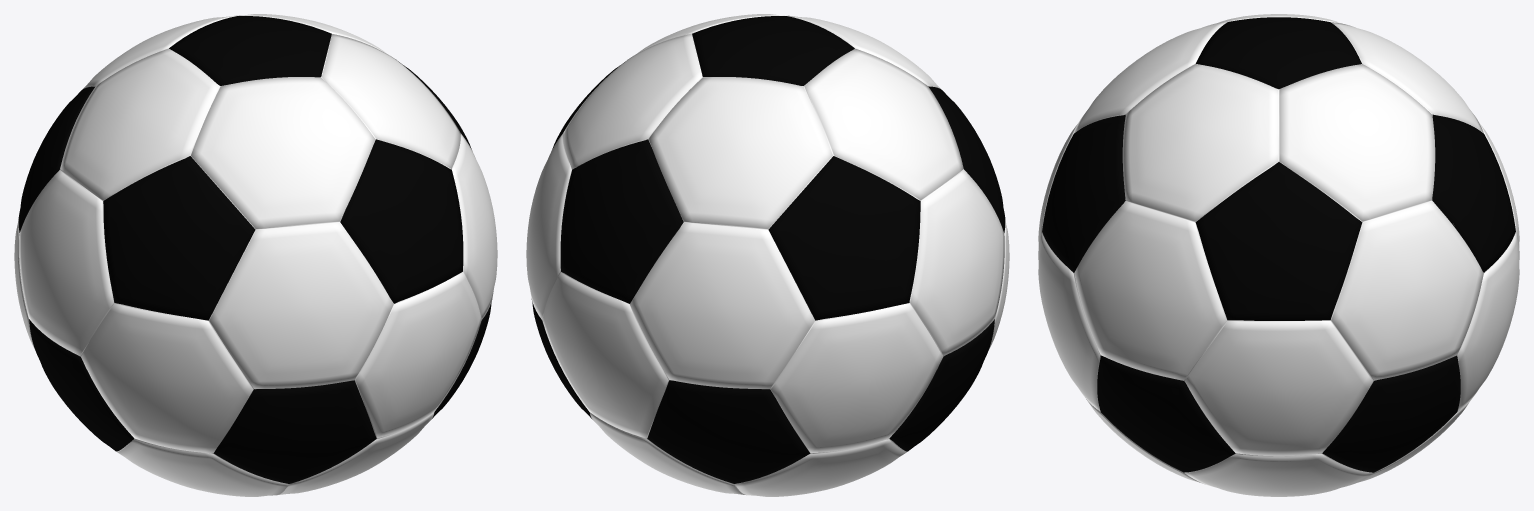
Rendered from Soccer Ball.obj.
3 views of the same model, side by side, from view 1: azimuth 30°, elevation 25°; view 2: azimuth 150°, elevation 25°; view 3: azimuth 270°, elevation 25° (orthographic).
Parts seen in each view (by area): view 1: Soccer_Ball; view 2: Soccer_Ball; view 3: Soccer_Ball.
Boxes of the visible parts, x1,y1,x2,y2 form: Soccer_Ball: (14,14,497,496); Soccer_Ball: (526,14,1009,496); Soccer_Ball: (1038,14,1519,496).
Size of the model in its own units: 0.2386 by 0.2395 by 0.2376.
1 material, 1 textured.
